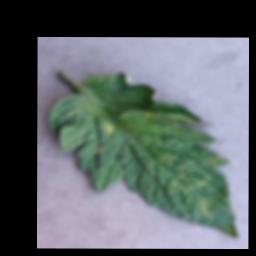Leaf_Mold: (101, 122, 114, 136)
